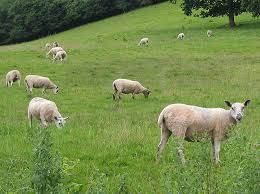sheep: (162, 100, 250, 161), (28, 96, 67, 129), (112, 78, 153, 104), (23, 74, 60, 97), (46, 46, 66, 60), (6, 68, 20, 87), (53, 51, 66, 62), (203, 28, 213, 39), (174, 32, 185, 41), (137, 37, 148, 45), (47, 42, 58, 48)
